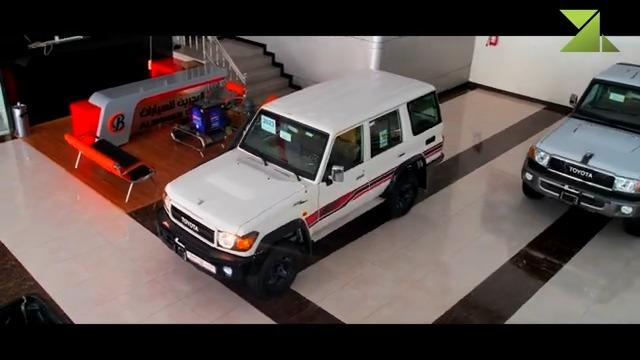MIL_HMMWV: (155, 69, 445, 296), (521, 61, 640, 241)
